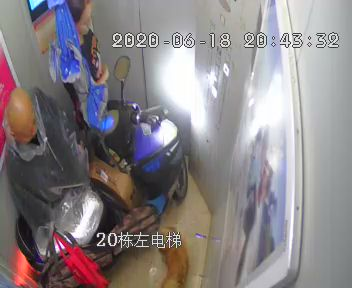Electric-bicycle: (16, 56, 180, 282)
